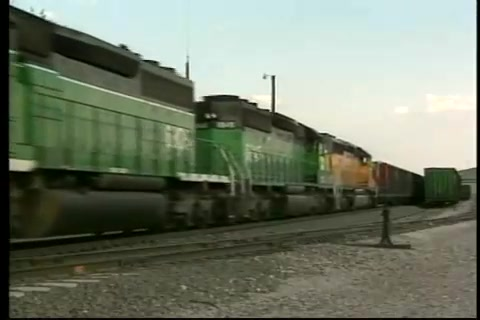train: (10, 5, 424, 241)
